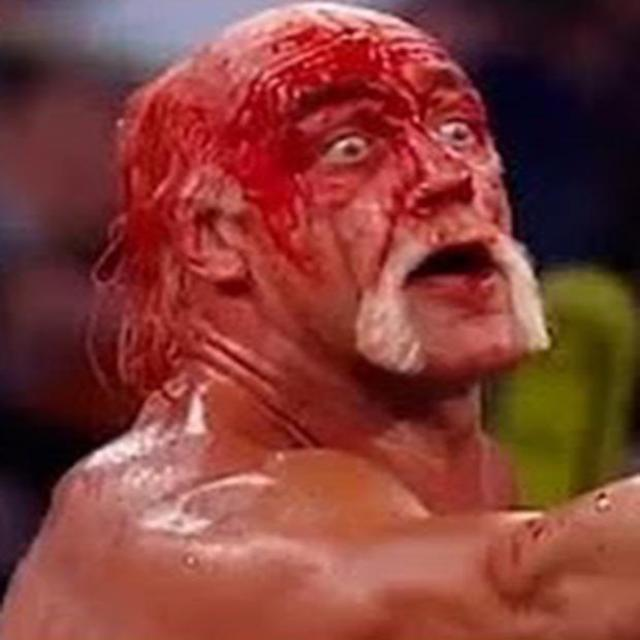flood: (136, 30, 541, 390)
